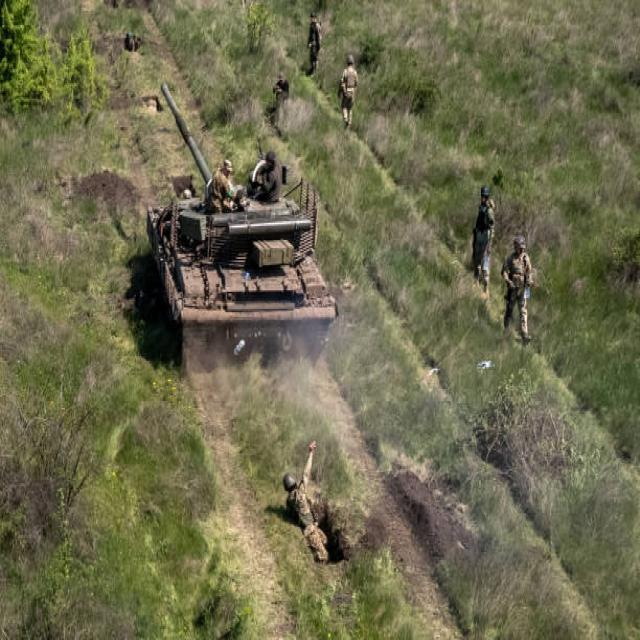Tanks: (144, 59, 343, 378)
